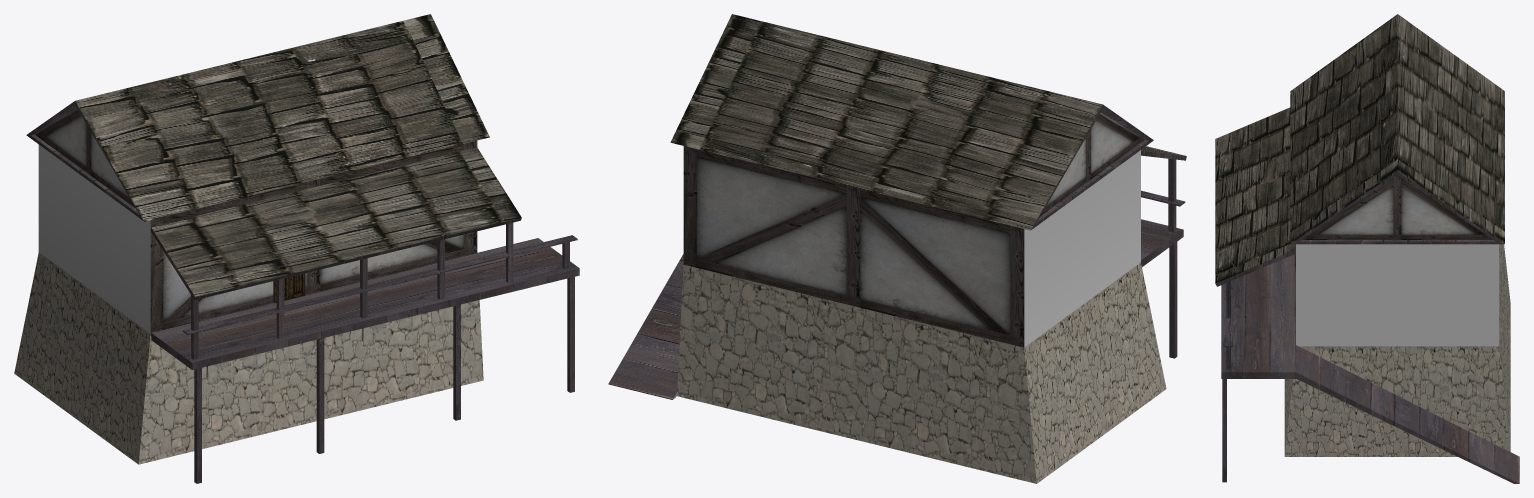
Rendered from Obj_House_01.FBX.
3 renders of one model, left to right at view 1: azimuth 30°, elevation 25°; view 2: azimuth 150°, elevation 25°; view 3: azimuth 270°, elevation 25°, orthographic. The views are drawn at different scales.
Visible parts, largest first — view 1: Box001; view 2: Box001; view 3: Box001.
Boxes of the visible parts, x1=… form: Box001: x1=14, y1=14, x2=579, y2=483; Box001: x1=608, y1=14, x2=1186, y2=483; Box001: x1=1215, y1=14, x2=1519, y2=483.
Bounding box in the file's own units: 26.88 × 20.08 × 19.14.
